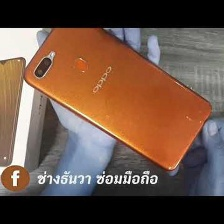book: (0, 17, 56, 181)
phone: (21, 16, 215, 176)
